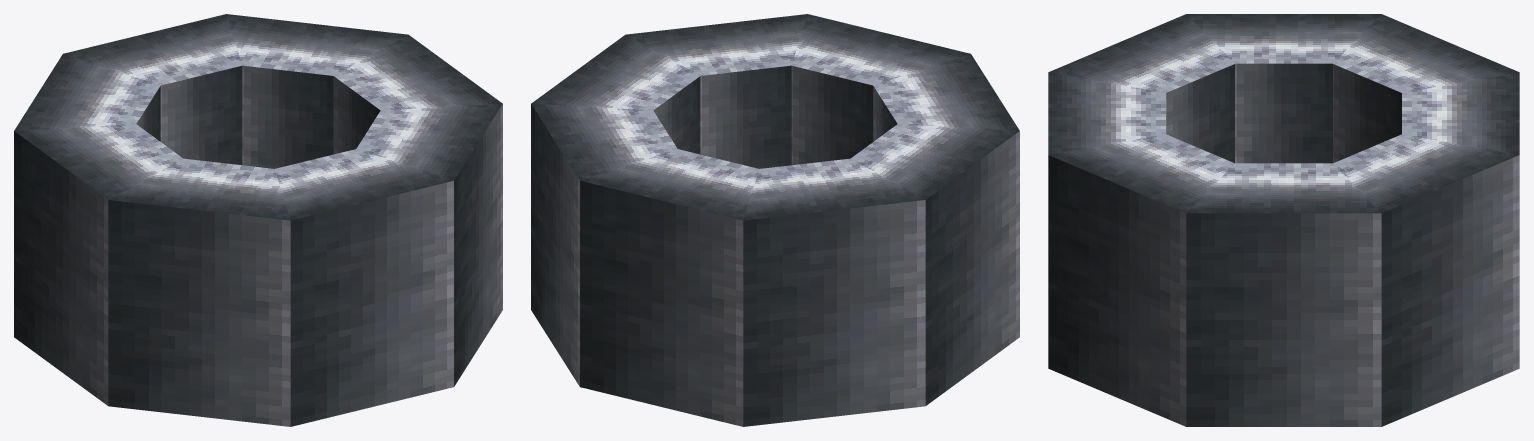
File: Nut.fbx
3 views of the same model, side by side, from view 1: azimuth 30°, elevation 25°; view 2: azimuth 150°, elevation 25°; view 3: azimuth 270°, elevation 25° (orthographic). The views are drawn at different scales.
Visible parts, largest first — view 1: Nut; view 2: Nut; view 3: Nut.
Boxes of the visible parts, <box> form: Nut: <box>14,14,502,426</box>; Nut: <box>531,14,1019,426</box>; Nut: <box>1048,14,1519,426</box>.
Size of the model in its own units: 1600 by 800 by 1600.
1 material, 1 textured.
